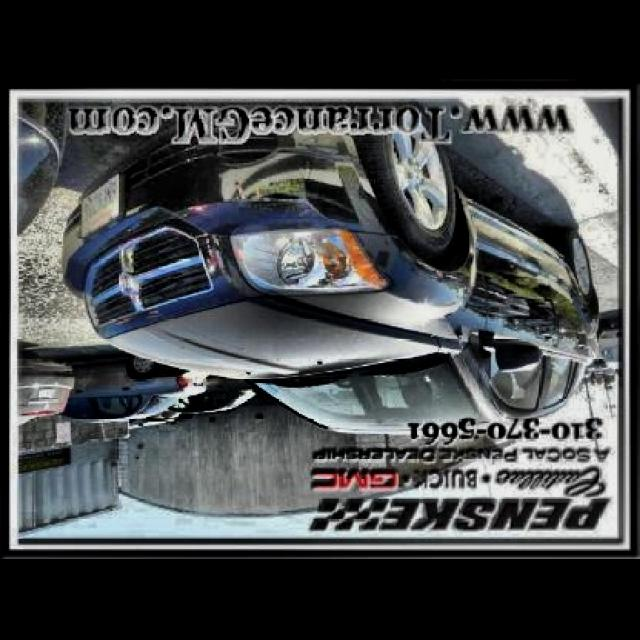black: (60, 117, 602, 428)
